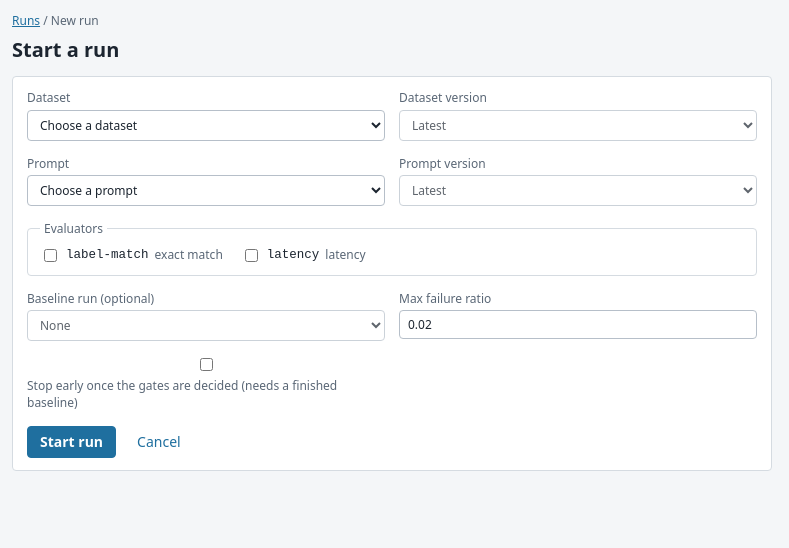
Test: NewRunPage › shows the server's detail when creation fails
The image size is (789, 548).
Select "triage" in the dropdown labelled "Dataset" at (206, 125), box left=27, top=110, right=385, bottom=141
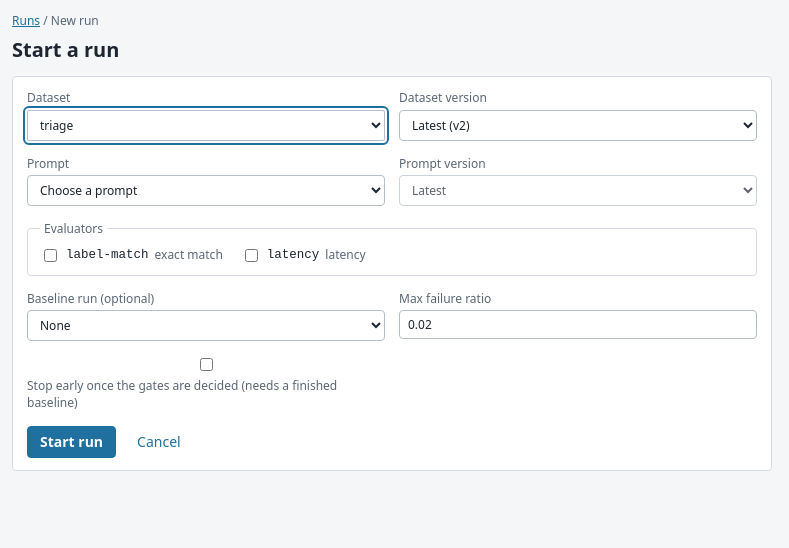
Select "triage" in the dropdown labelled "Prompt" at (206, 191), box left=27, top=175, right=385, bottom=206
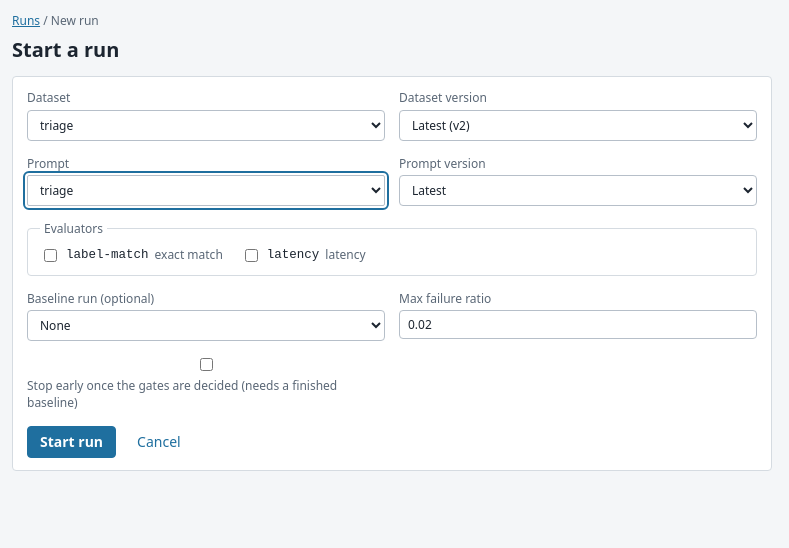
Click the checkbox labelled "label-match exact match" at (50, 255), box left=44, top=249, right=57, bottom=262
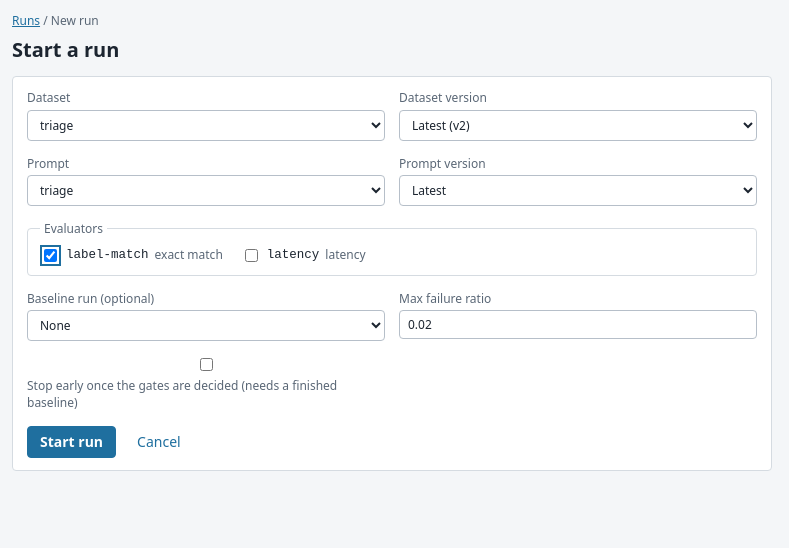
Click the button "Start run" at (72, 442), box left=27, top=426, right=116, bottom=458
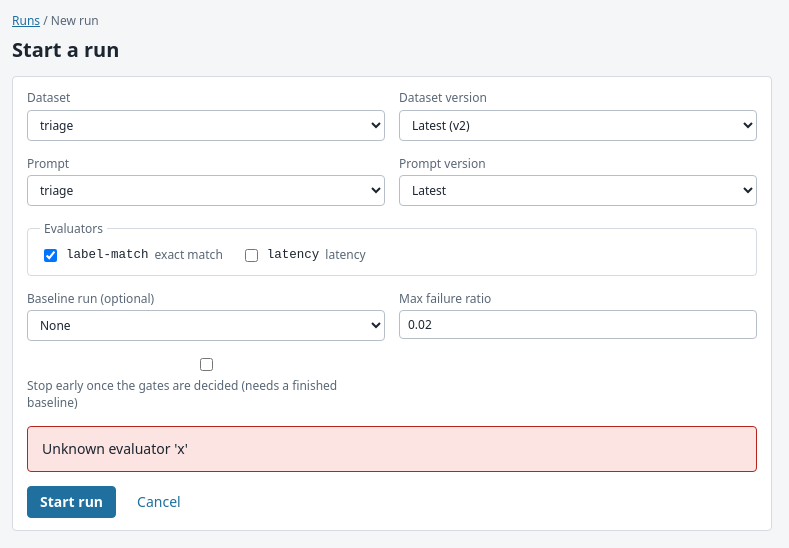
Expected: the message shows "Unknown evaluator", left=42, top=439, right=188, bottom=458
